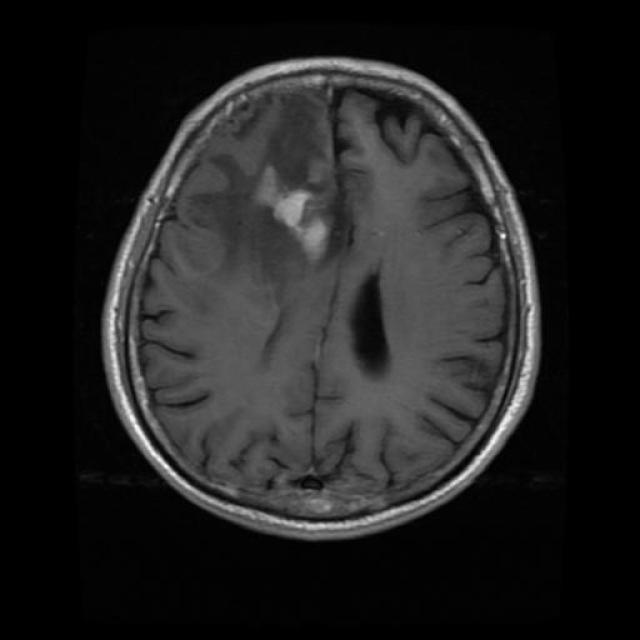brain_tumor: (255, 166, 331, 263), (351, 272, 389, 372)
